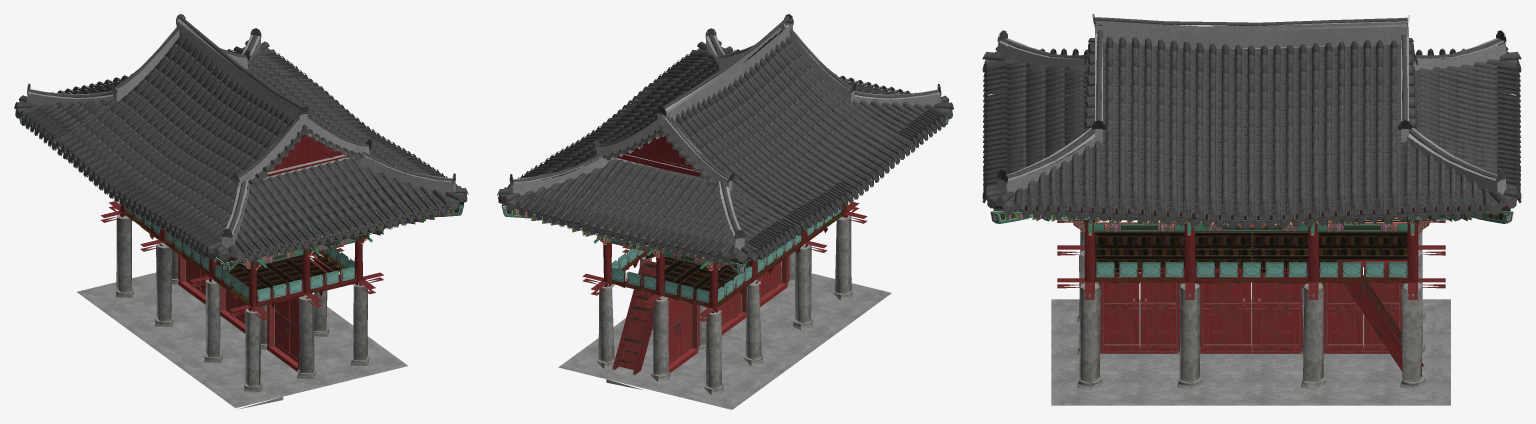
Rendered from oedae.glb.
3 views of the same model, side by side, from view 1: azimuth 30°, elevation 25°; view 2: azimuth 150°, elevation 25°; view 3: azimuth 270°, elevation 25° (orthographic). The views are drawn at different scales.
Parts seen in each view (by area): view 1: 5_Oedaemun, 5_Oedaemun_lambert5.1_0.001, 5_Oedaemun__Sugiwa_265k_0.001, 5_Oedaemun_Mat_Gate01_0.001, 5_Oedaemun__Sumakse1_0.001; view 2: 5_Oedaemun, 5_Oedaemun_lambert5.1_0.002, 5_Oedaemun_Mat_Gate01_0.001, 5_Oedaemun__Sugiwa_265k_0.001, 5_Oedaemun_lambert5.1_0.001, 5_Oedaemun__Sumakse1_0.001; view 3: 5_Oedaemun, 5_Oedaemun_lambert5.1_0.001, 5_Oedaemun_Mat_Gate01_0.001, 5_Oedaemun__Sugiwa_265k_0.001, 5_Oedaemun__Sumakse1_0.001.
Part boxes in pixels (x1,y1,x2,y2): 5_Oedaemun: [15, 14, 468, 409]; 5_Oedaemun_lambert5.1_0.001: [36, 69, 442, 250]; 5_Oedaemun__Sugiwa_265k_0.001: [115, 25, 452, 181]; 5_Oedaemun_Mat_Gate01_0.001: [178, 271, 297, 371]; 5_Oedaemun__Sumakse1_0.001: [14, 95, 363, 256]; 5_Oedaemun: [497, 14, 953, 409]; 5_Oedaemun_lambert5.1_0.002: [529, 158, 760, 252]; 5_Oedaemun_Mat_Gate01_0.001: [667, 282, 786, 372]; 5_Oedaemun__Sugiwa_265k_0.001: [629, 25, 852, 178]; 5_Oedaemun_lambert5.1_0.001: [583, 69, 937, 244]; 5_Oedaemun__Sumakse1_0.001: [654, 106, 947, 258]; 5_Oedaemun: [982, 14, 1521, 405]; 5_Oedaemun_lambert5.1_0.001: [993, 43, 1483, 216]; 5_Oedaemun_Mat_Gate01_0.001: [1104, 267, 1399, 353]; 5_Oedaemun__Sugiwa_265k_0.001: [1001, 24, 1407, 178]; 5_Oedaemun__Sumakse1_0.001: [983, 38, 1521, 127].
Bounding box in the file's own units: 9.88 × 9.95 × 14.21.
40 materials, 40 textured.
